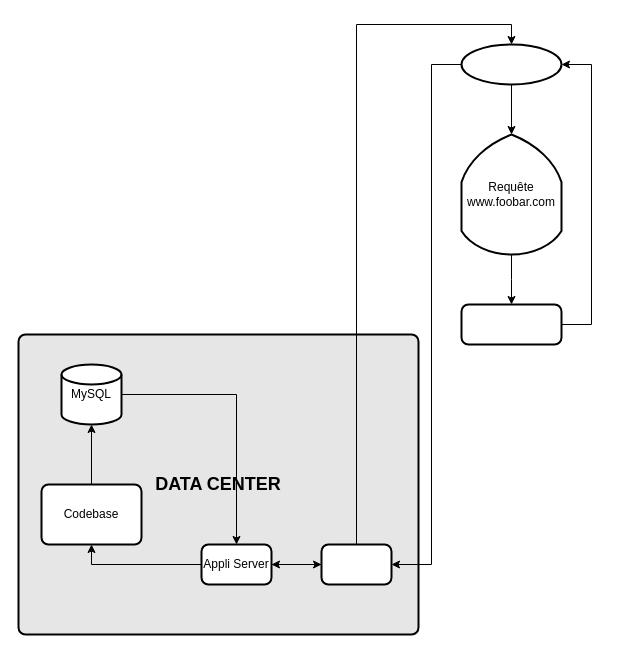
Some shapes in this 617 by 653 pixel diagram are drawn without their labels. Each missing label, with the box of its shape:
DNS Server: (460, 303, 562, 345)
Nginx: (320, 543, 392, 585)
USER: (460, 43, 562, 85)
